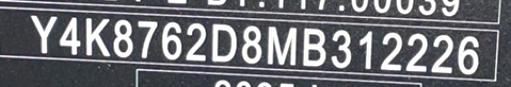letter: (263, 23, 301, 68), (26, 11, 59, 58), (82, 12, 115, 59), (299, 23, 329, 72), (208, 20, 240, 65), (329, 24, 358, 71), (184, 19, 212, 66), (377, 30, 407, 73), (454, 33, 482, 78), (134, 17, 161, 62), (238, 22, 265, 67), (404, 30, 432, 73), (429, 33, 457, 76), (108, 18, 137, 59), (58, 13, 84, 58), (356, 25, 380, 72), (160, 17, 186, 60)
